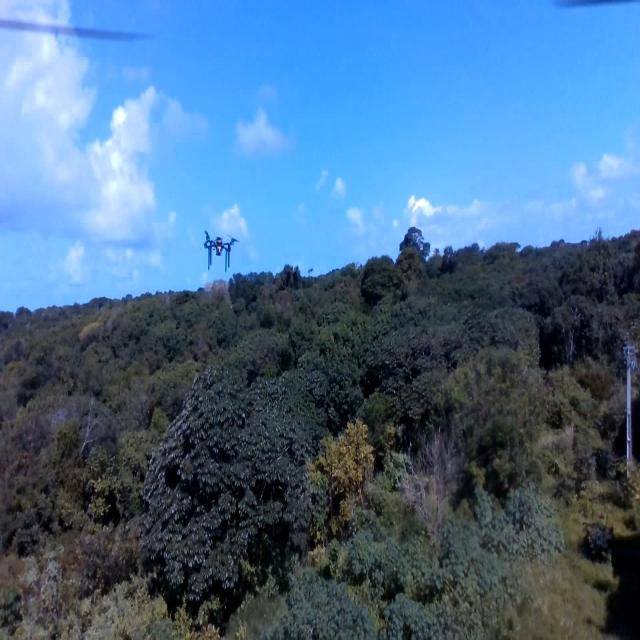-uav-: (198, 216, 242, 278)
